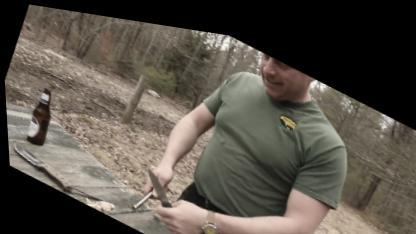knife: (122, 153, 205, 233)
